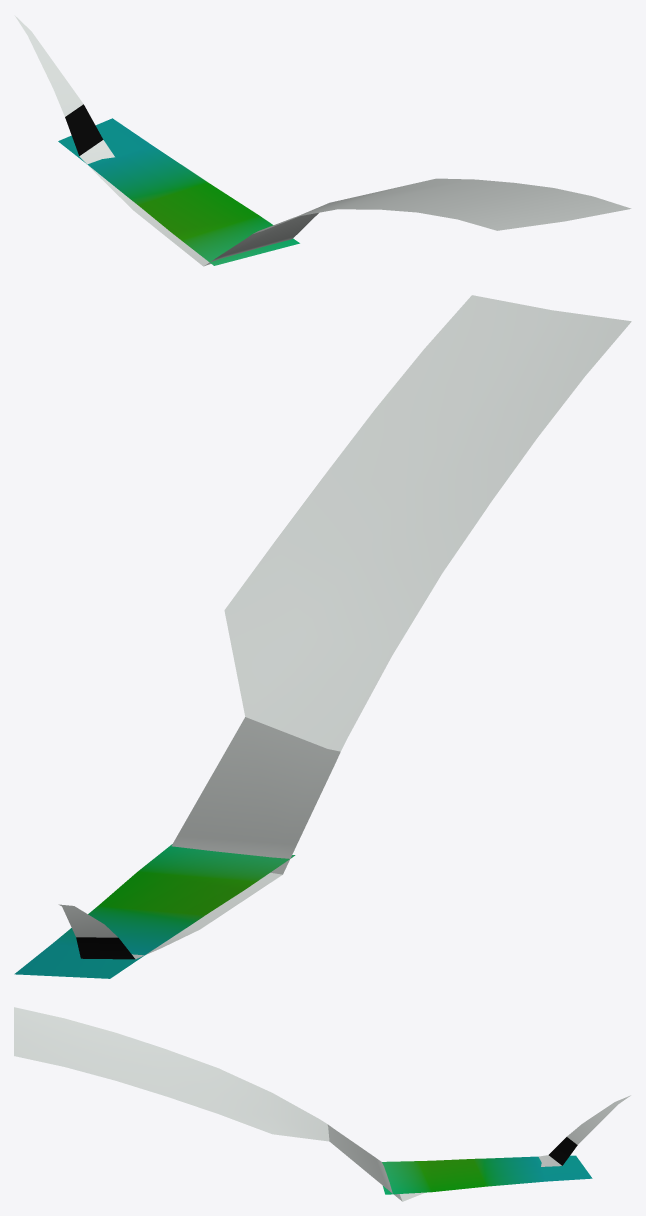
3 views of the same model, one above another, from view 1: azimuth 30°, elevation 25°; view 2: azimuth 150°, elevation 25°; view 3: azimuth 270°, elevation 25° (orthographic). The views are drawn at different scales.
Visible parts, largest first — view 1: G:\FFXIV-MapTools\exports\r1f1\bg\ffxiv\roc_r1\fld\r1f1\bgpl (×5); view 2: G:\FFXIV-MapTools\exports\r1f1\bg\ffxiv\roc_r1\fld\r1f1\bgpl (×5); view 3: G:\FFXIV-MapTools\exports\r1f1\bg\ffxiv\roc_r1\fld\r1f1\bgpl (×5).
Boxes of the visible parts, x1,y1,x2,y2 form: G:\FFXIV-MapTools\exports\r1f1\bg\ffxiv\roc_r1\fld\r1f1\bgpl (×5): [14, 15, 631, 266]; G:\FFXIV-MapTools\exports\r1f1\bg\ffxiv\roc_r1\fld\r1f1\bgpl (×5): [14, 295, 631, 978]; G:\FFXIV-MapTools\exports\r1f1\bg\ffxiv\roc_r1\fld\r1f1\bgpl (×5): [14, 1007, 630, 1201].
Size of the model in its own units: 16.77 by 29.39 by 99.4.
